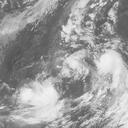cyclone: (18, 81, 58, 118), (97, 49, 125, 78), (62, 51, 89, 77)
